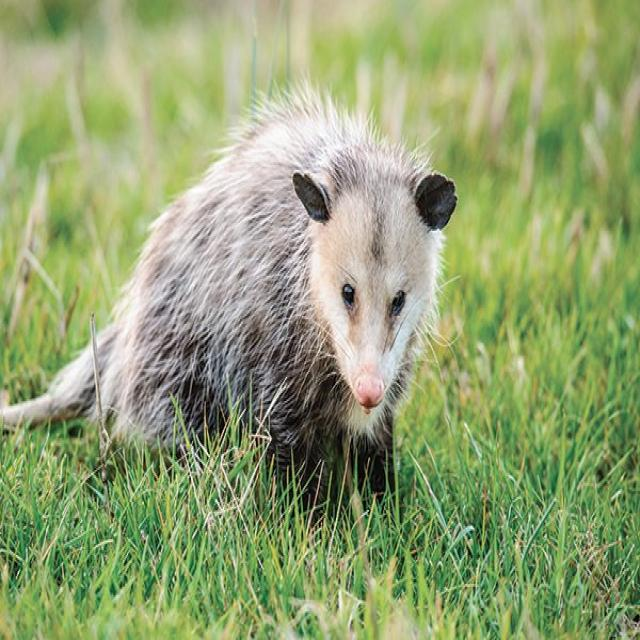possum: (1, 87, 458, 480)
